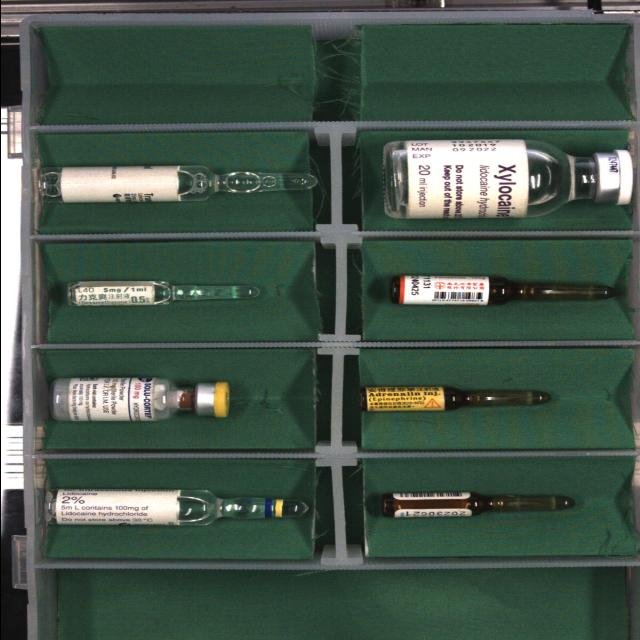Vials: (383, 140, 632, 219), (51, 377, 228, 421), (214, 404, 220, 409)
